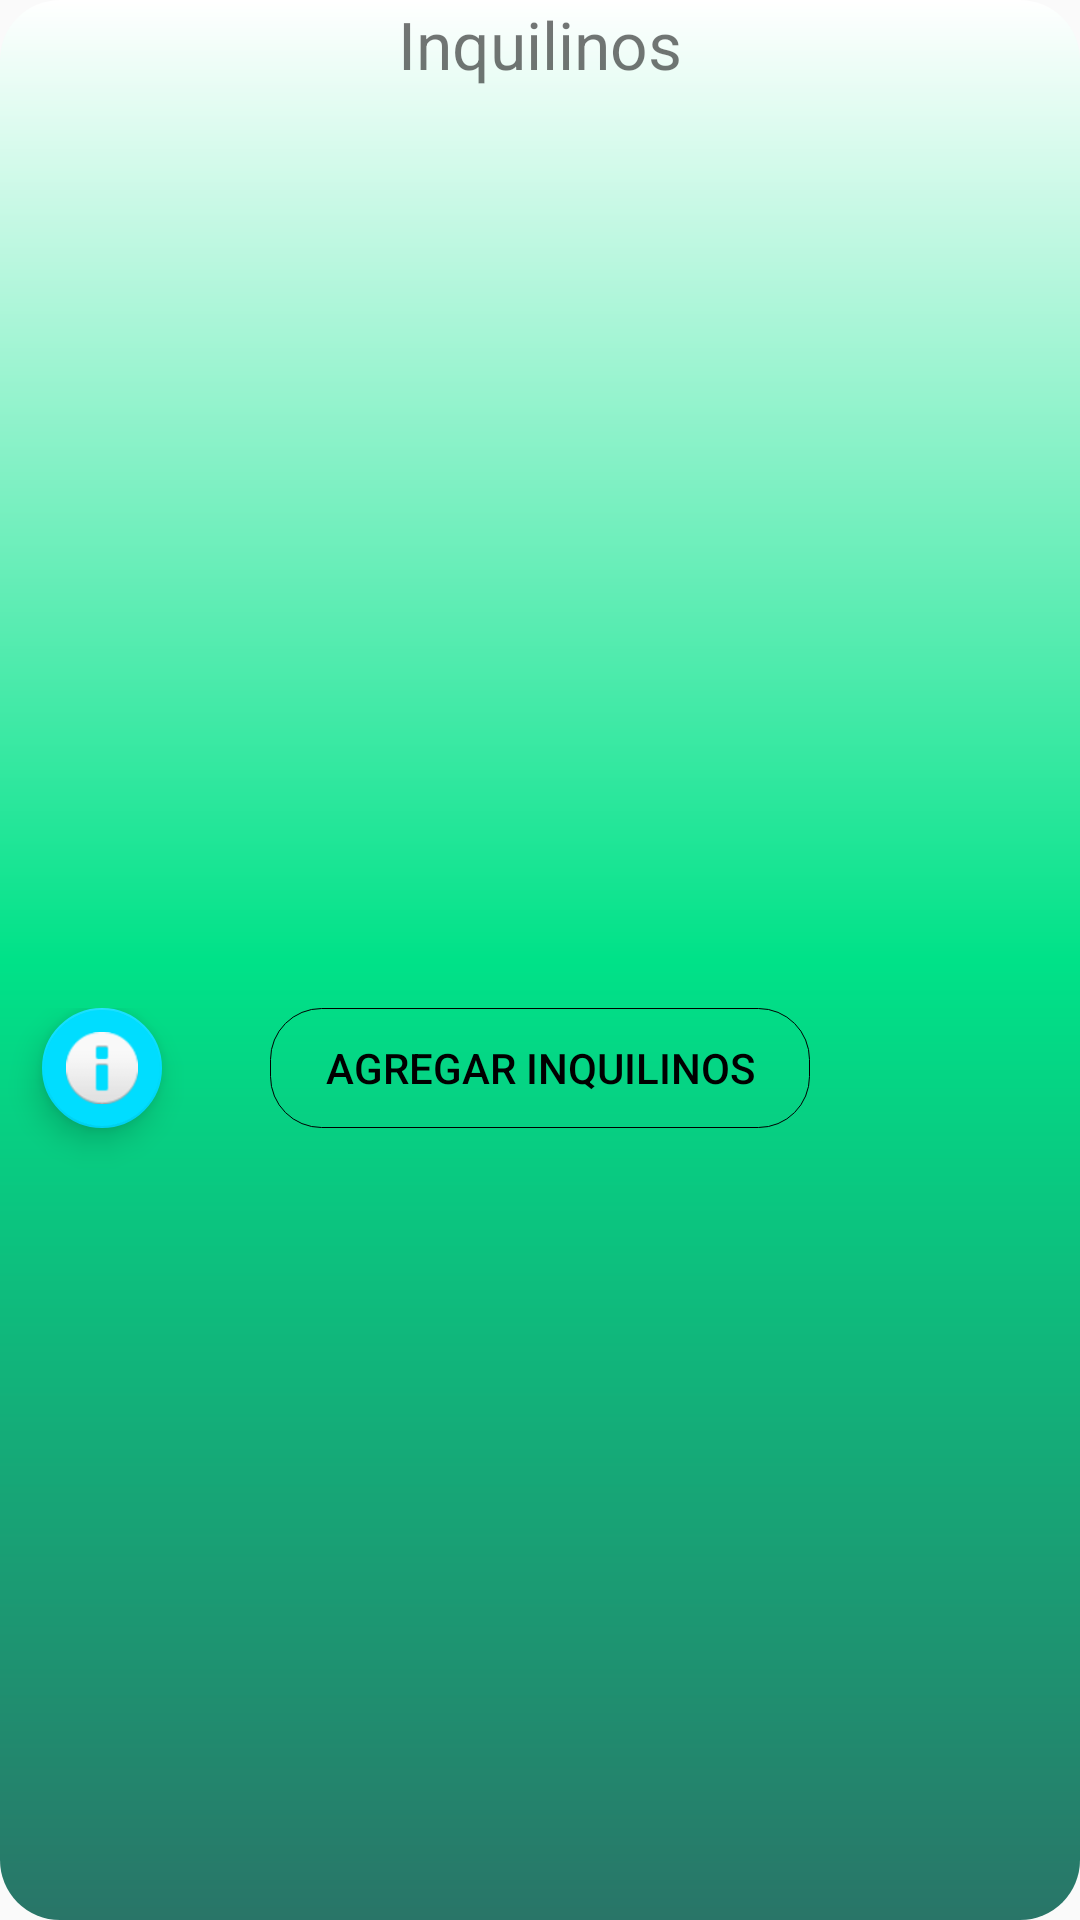

Screen size 1080 x 1920. Icon name, then its center in pixels as point (x, y):
info: point (102, 1068)
